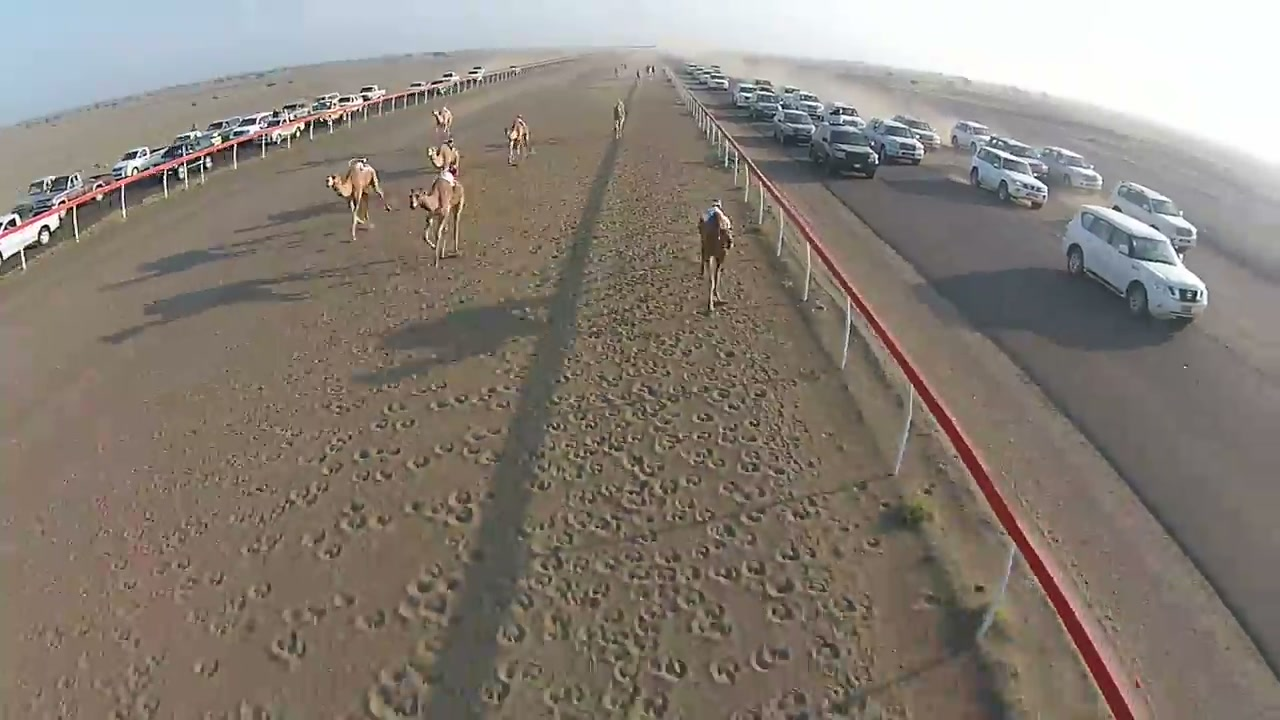animal_foot_print: (110, 144, 882, 717)
